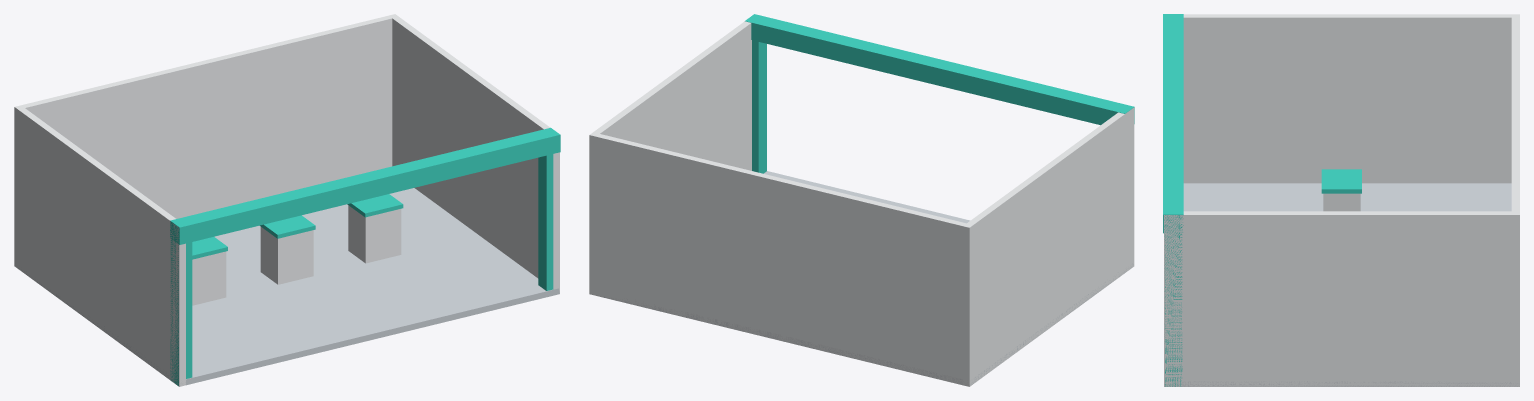
The picture shows the model from 3 angles, left to right: view 1: azimuth 30°, elevation 25°; view 2: azimuth 150°, elevation 25°; view 3: azimuth 270°, elevation 25°; orthographic projection. The views are drawn at different scales.
Parts seen in each view (by area): view 1: Exhibition Booth Concept; view 2: Exhibition Booth Concept; view 3: Exhibition Booth Concept.
Boxes of the visible parts, x1,y1,x2,y2 form: Exhibition Booth Concept: [14, 14, 560, 386]; Exhibition Booth Concept: [589, 14, 1134, 386]; Exhibition Booth Concept: [1163, 14, 1519, 386].
Bounding box in the file's own units: 8 × 3.2 × 6.02.
